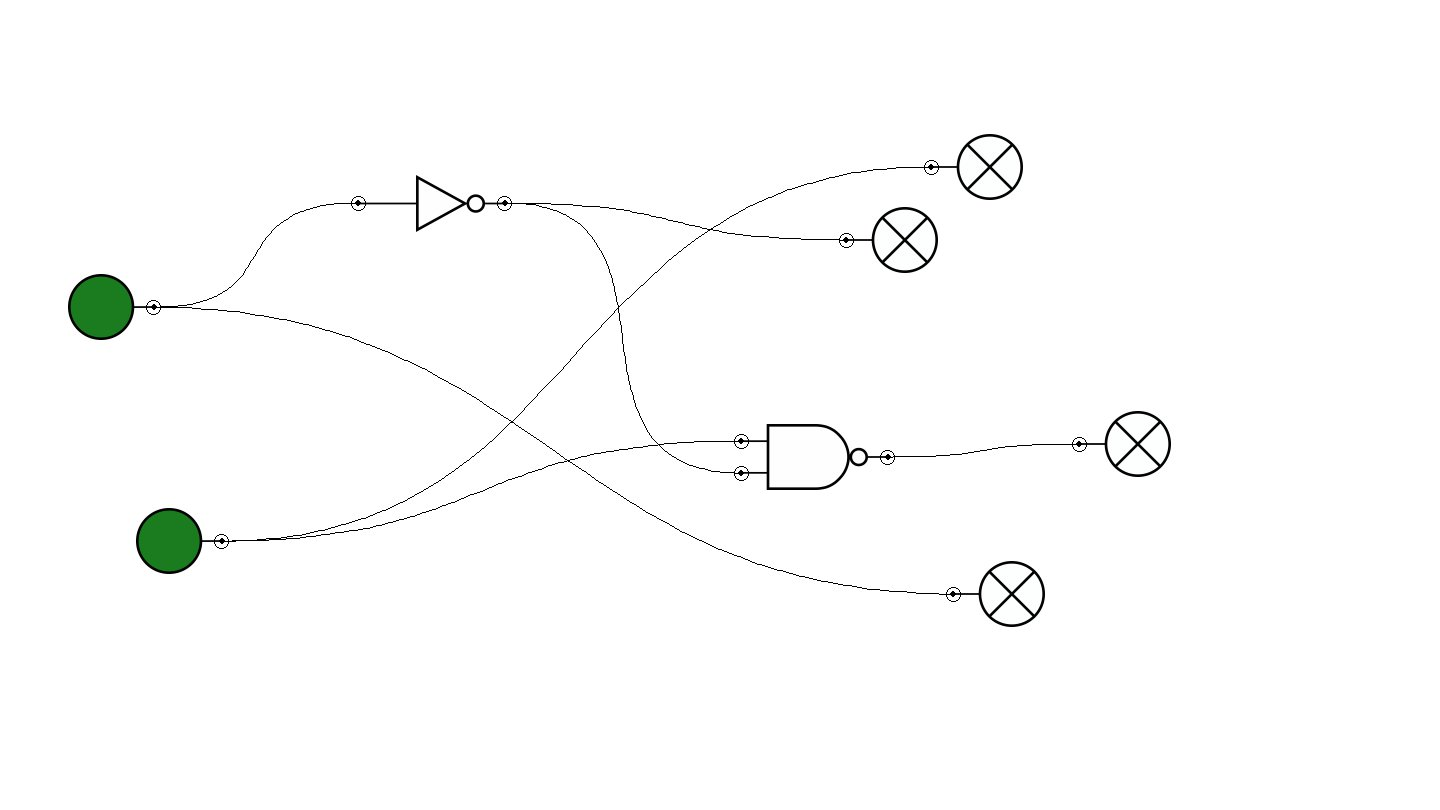bulb: (946, 561, 1045, 627), (1072, 411, 1171, 477), (839, 207, 938, 273), (924, 134, 1023, 200)
nand: (734, 424, 895, 490)
not: (351, 175, 512, 232)
switch_True: (136, 508, 229, 574), (68, 274, 161, 340)
